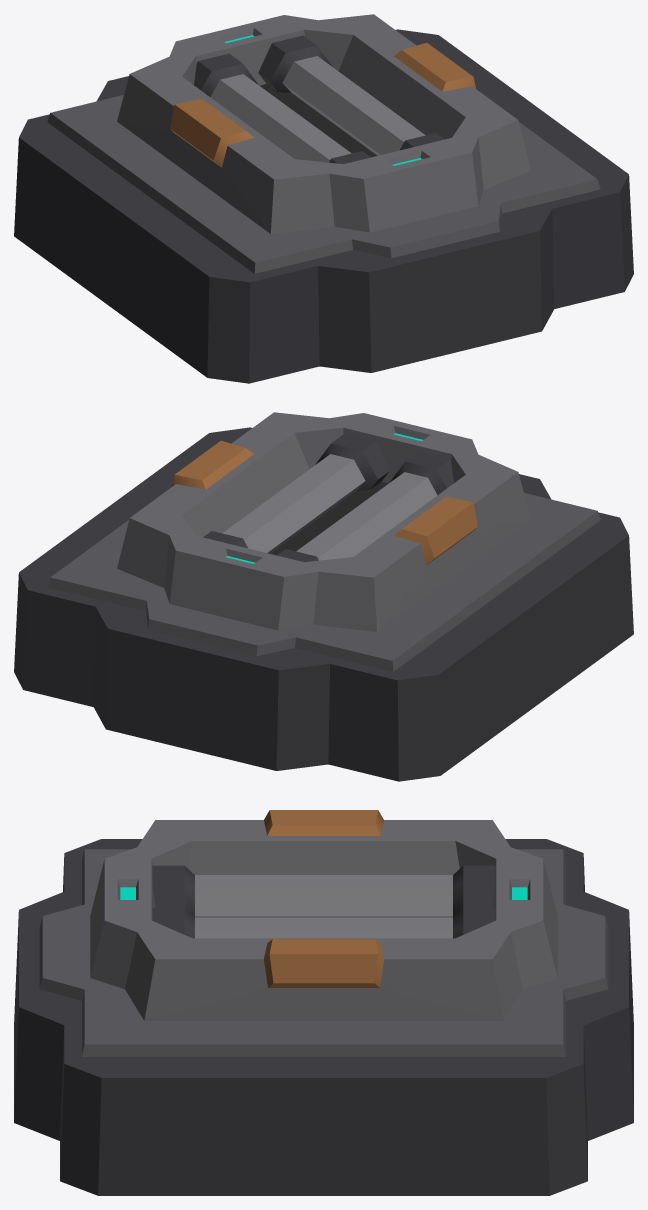
The model's file is SM_Prop_Battery_01.glb.
3 renders of one model, top to bottom at view 1: azimuth 30°, elevation 25°; view 2: azimuth 150°, elevation 25°; view 3: azimuth 270°, elevation 25°, orthographic. The views are drawn at different scales.
Parts seen in each view (by area): view 1: SM_Prop_Battery_01; view 2: SM_Prop_Battery_01; view 3: SM_Prop_Battery_01.
Boxes of the visible parts, x1=… form: SM_Prop_Battery_01: x1=14, y1=14, x2=633, y2=383; SM_Prop_Battery_01: x1=14, y1=412, x2=633, y2=781; SM_Prop_Battery_01: x1=14, y1=810, x2=633, y2=1195.
Bounding box in the file's own units: 2.19 × 0.8083 × 2.36.
1 material, 1 textured.
